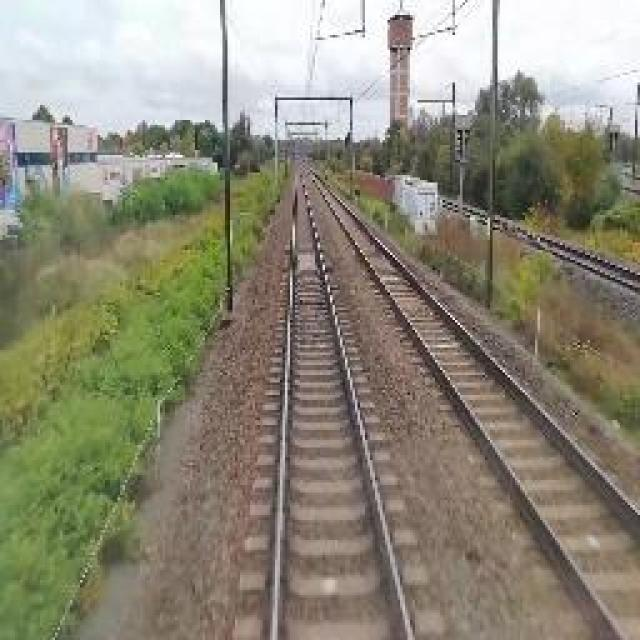rail: (238, 165, 451, 638)
